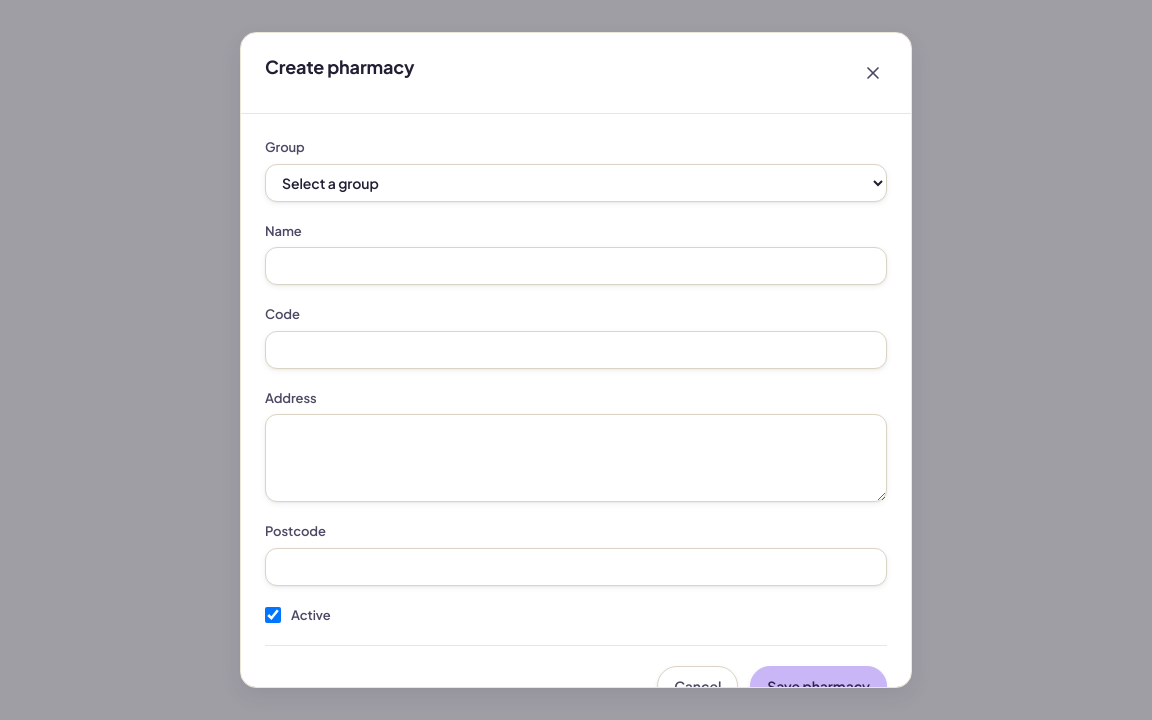
Test: PharmacyFormModal › required-field validation works for group, name, and code
Click the button "Save pharmacy".
click(819, 686)  # box [750,666,887,706]
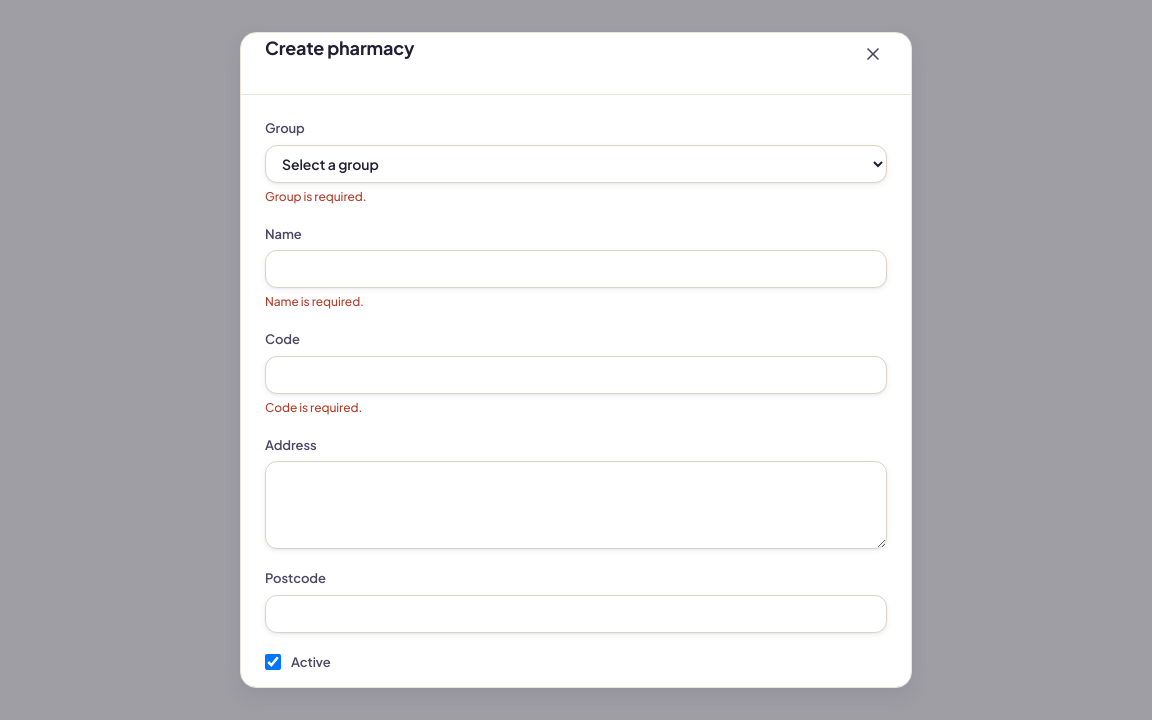
Expected: the list item "Group is required." is shown, [265,188,366,204]
Expected: the list item "Name is required." is shown, [265,294,364,309]
Expected: the list item "Code is required." is shown, [265,400,362,414]
